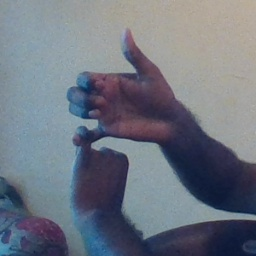S: (53, 24, 180, 220)
